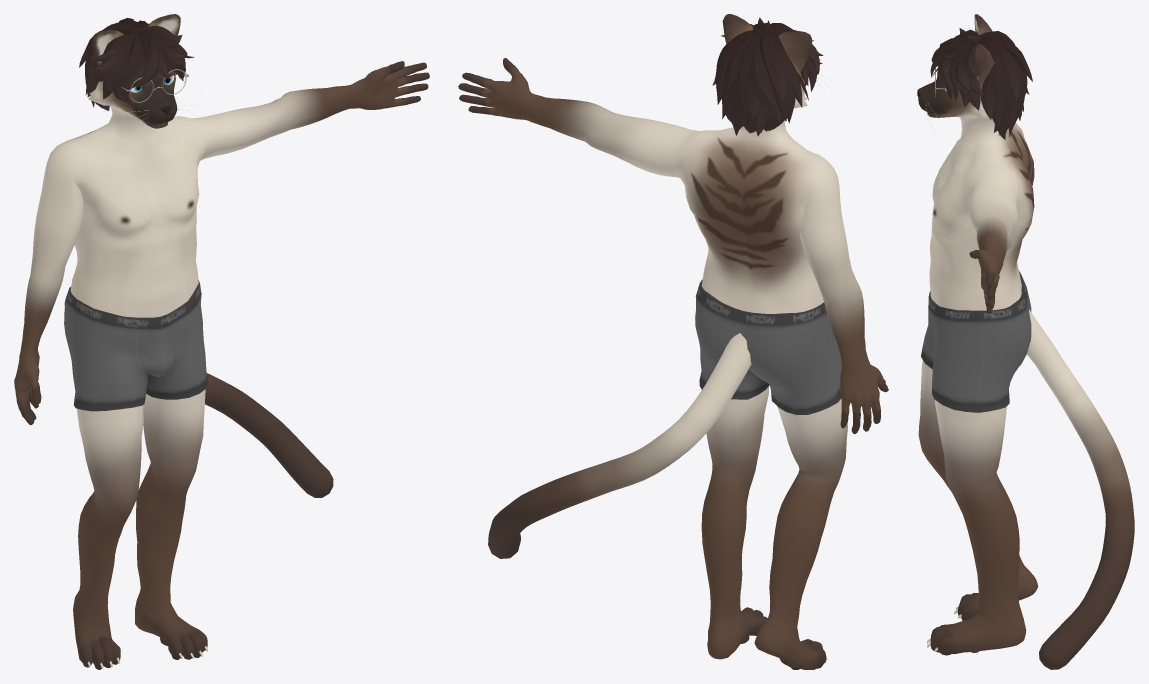
Rendered from YasuV6Ref_A.gltf.
The picture shows the model from 3 angles, left to right: view 1: azimuth 30°, elevation 25°; view 2: azimuth 150°, elevation 25°; view 3: azimuth 270°, elevation 25°; orthographic projection. The views are drawn at different scales.
Visible parts, largest first — view 1: yasuref-a; view 2: yasuref-a; view 3: yasuref-a.
Part boxes in pixels (x1,y1,x2,y2): yasuref-a: (14, 14, 429, 669); yasuref-a: (458, 14, 888, 669); yasuref-a: (917, 14, 1134, 669).
Size of the model in its own units: 0.965 by 1.4 by 0.4567.
Materials: 2 (1 with a texture image).
